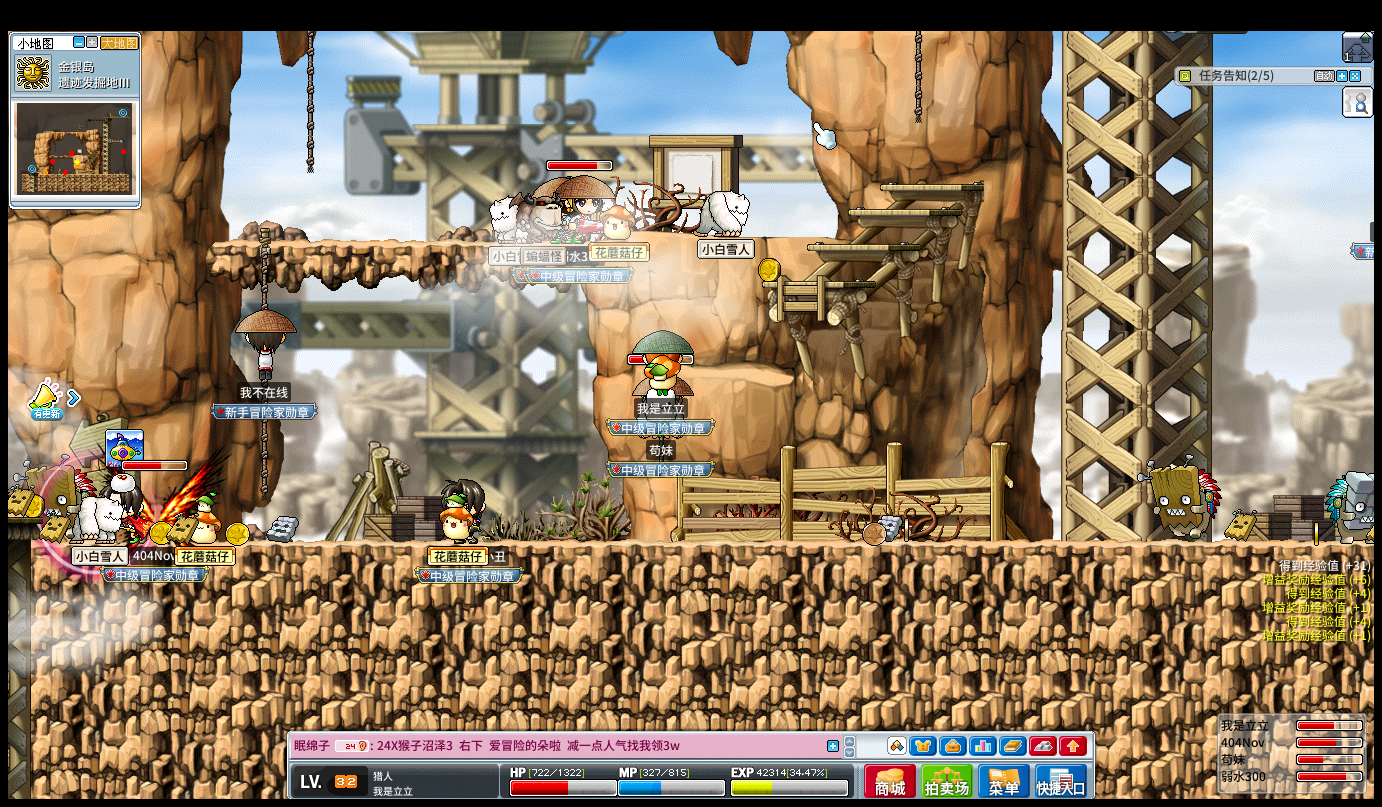floor: (209, 238, 590, 248), (696, 364, 795, 384), (678, 232, 837, 240), (755, 278, 874, 287), (844, 206, 957, 214), (879, 183, 982, 191), (806, 243, 919, 250)
monster: (1142, 458, 1222, 542), (1325, 470, 1380, 546)
rope: (302, 30, 315, 173), (912, 28, 922, 121), (257, 225, 268, 309), (261, 419, 271, 505), (258, 418, 268, 503)
